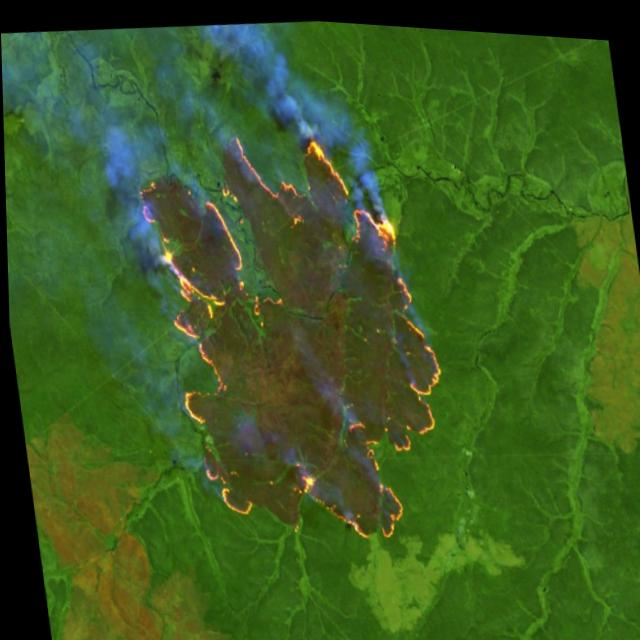fire: (121, 95, 471, 571)
